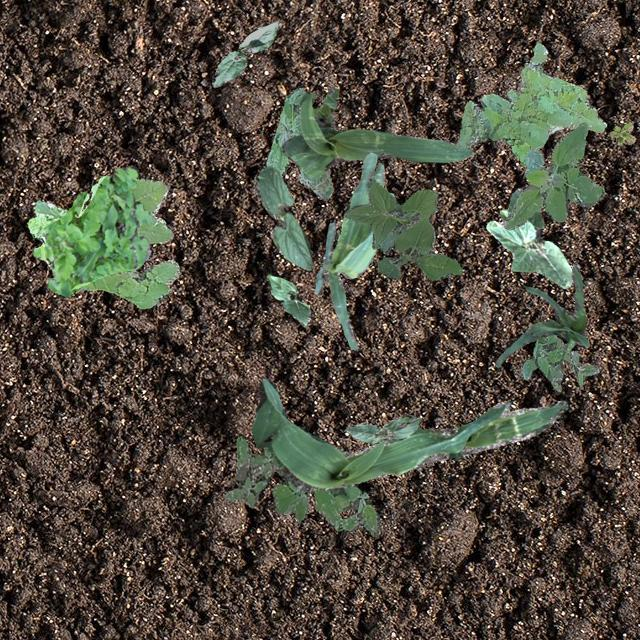crop: (250, 378, 566, 490), (280, 86, 472, 180), (314, 152, 382, 348), (494, 262, 588, 366), (486, 188, 572, 288), (252, 165, 314, 268), (210, 20, 280, 86), (266, 274, 310, 326), (344, 413, 420, 442), (546, 125, 562, 134)
weed: (26, 178, 178, 308), (454, 42, 606, 165), (32, 164, 152, 296), (224, 436, 378, 536), (342, 178, 460, 278), (504, 122, 604, 228), (264, 86, 332, 198), (520, 334, 598, 391), (608, 122, 634, 144)
